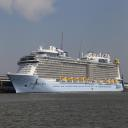cruises: (7, 45, 125, 97)
